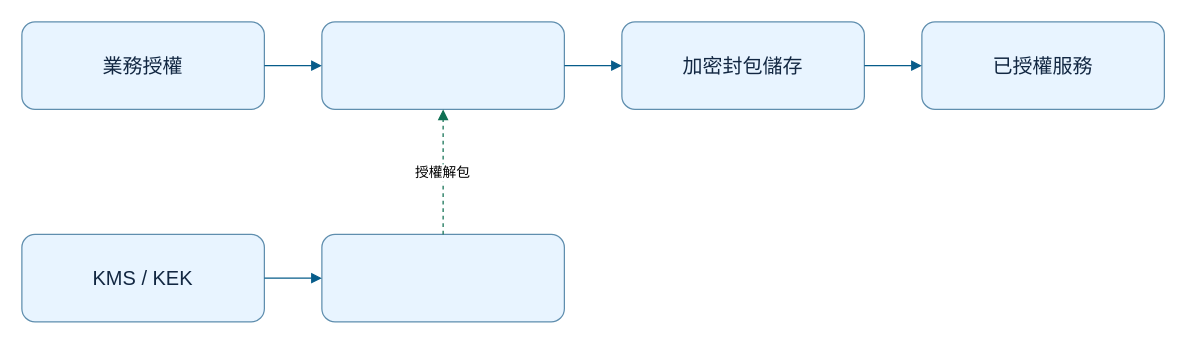
This 1186x344 diagram has some shape labels left out. Here are the shapes that lost their labels. From the top down, the box of each, then its label:
(321, 21, 564, 109): 加解密層
(321, 233, 564, 322): DEK 版本與輪替
